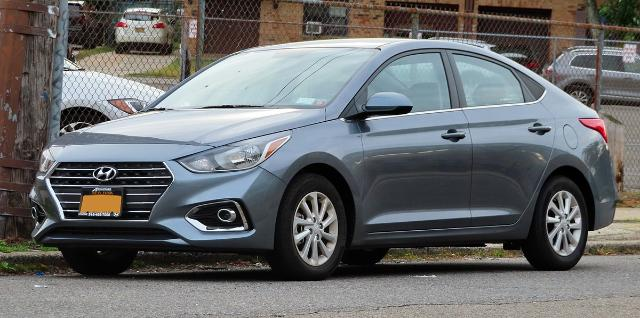hyundai: (28, 37, 618, 280)
